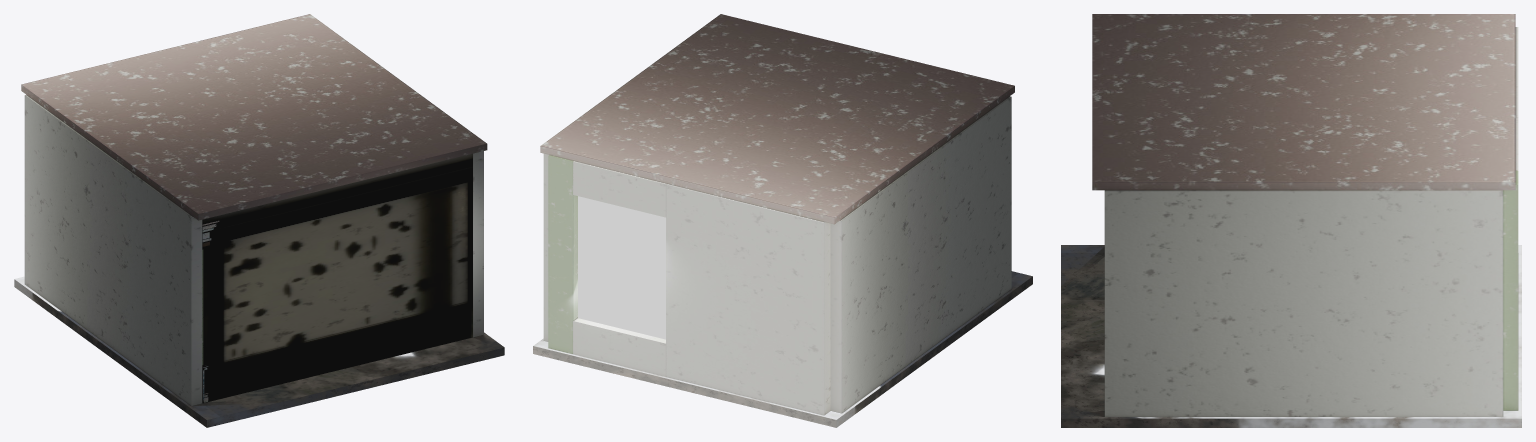
Rendered from hotel.gltf.
The picture shows the model from 3 angles, left to right: view 1: azimuth 30°, elevation 25°; view 2: azimuth 150°, elevation 25°; view 3: azimuth 270°, elevation 25°; orthographic projection. The views are drawn at different scales.
Visible parts, largest first — view 1: Baked_Ceiling, Rear_wall, Baked_Walls, Baked_Floor; view 2: Baked_Walls, Baked_Ceiling, Window_haze, Baked_Floor; view 3: Baked_Walls, Baked_Ceiling, Baked_Floor.
Part boxes in pixels (x1,y1,x2,y2): Baked_Ceiling: (21, 14, 487, 220); Rear_wall: (202, 153, 472, 403); Baked_Walls: (24, 95, 483, 405); Baked_Floor: (14, 276, 504, 427); Baked_Walls: (543, 96, 1011, 415); Baked_Ceiling: (540, 14, 1014, 224); Window_haze: (578, 196, 665, 339); Baked_Floor: (533, 271, 1032, 427); Baked_Walls: (1104, 27, 1518, 416); Baked_Ceiling: (1092, 14, 1515, 190); Baked_Floor: (1061, 245, 1521, 427).
Size of the model in its own units: 6.6 by 4.3 by 7.4.
Materials: 5 (4 with a texture image).
